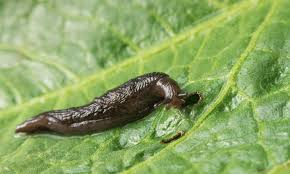slug: (14, 71, 198, 138)
